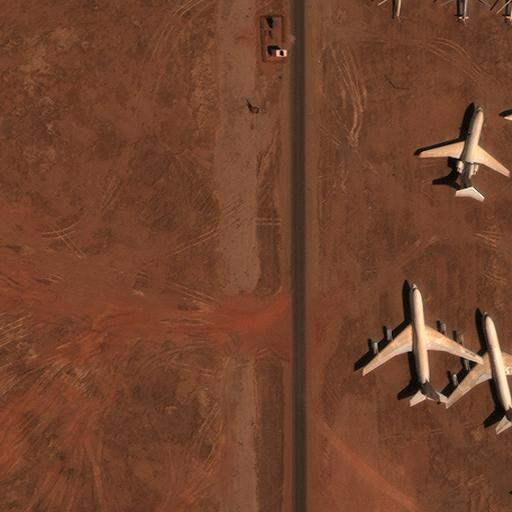Large Civil Transport: (362, 281, 482, 399), (445, 310, 512, 424)
Medium Civil Transport: (421, 104, 510, 198)
